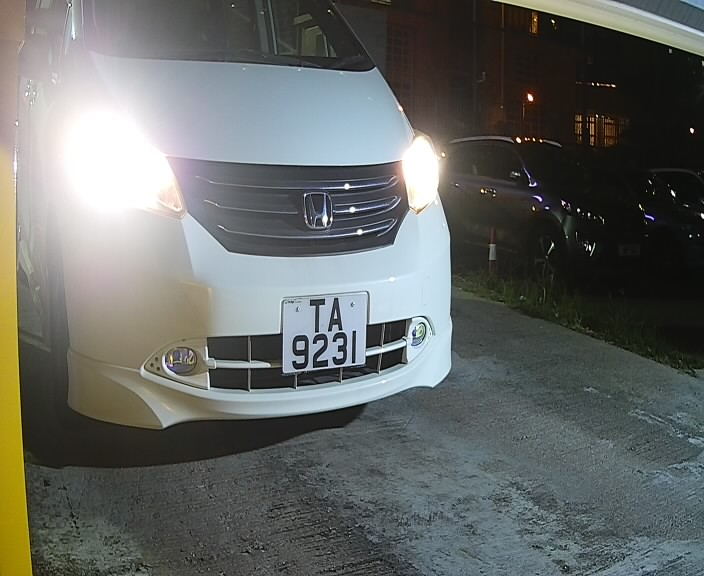Car: (12, 2, 460, 448)
License Plate: (276, 283, 379, 386)
